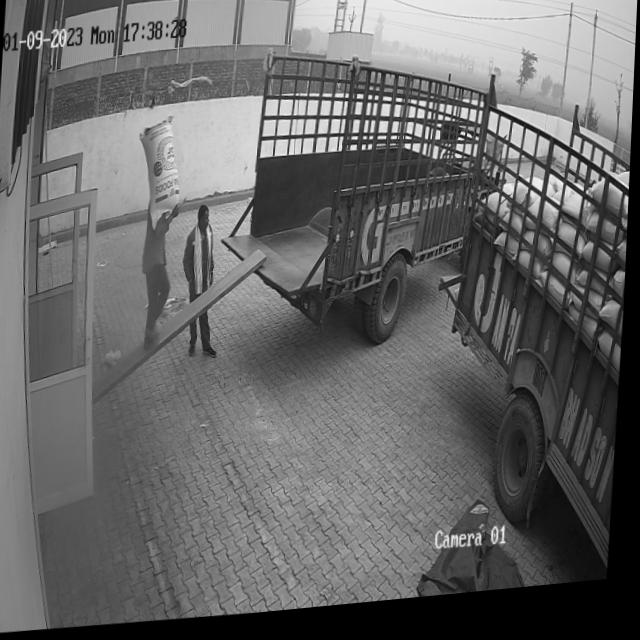sack: (136, 119, 184, 235)
